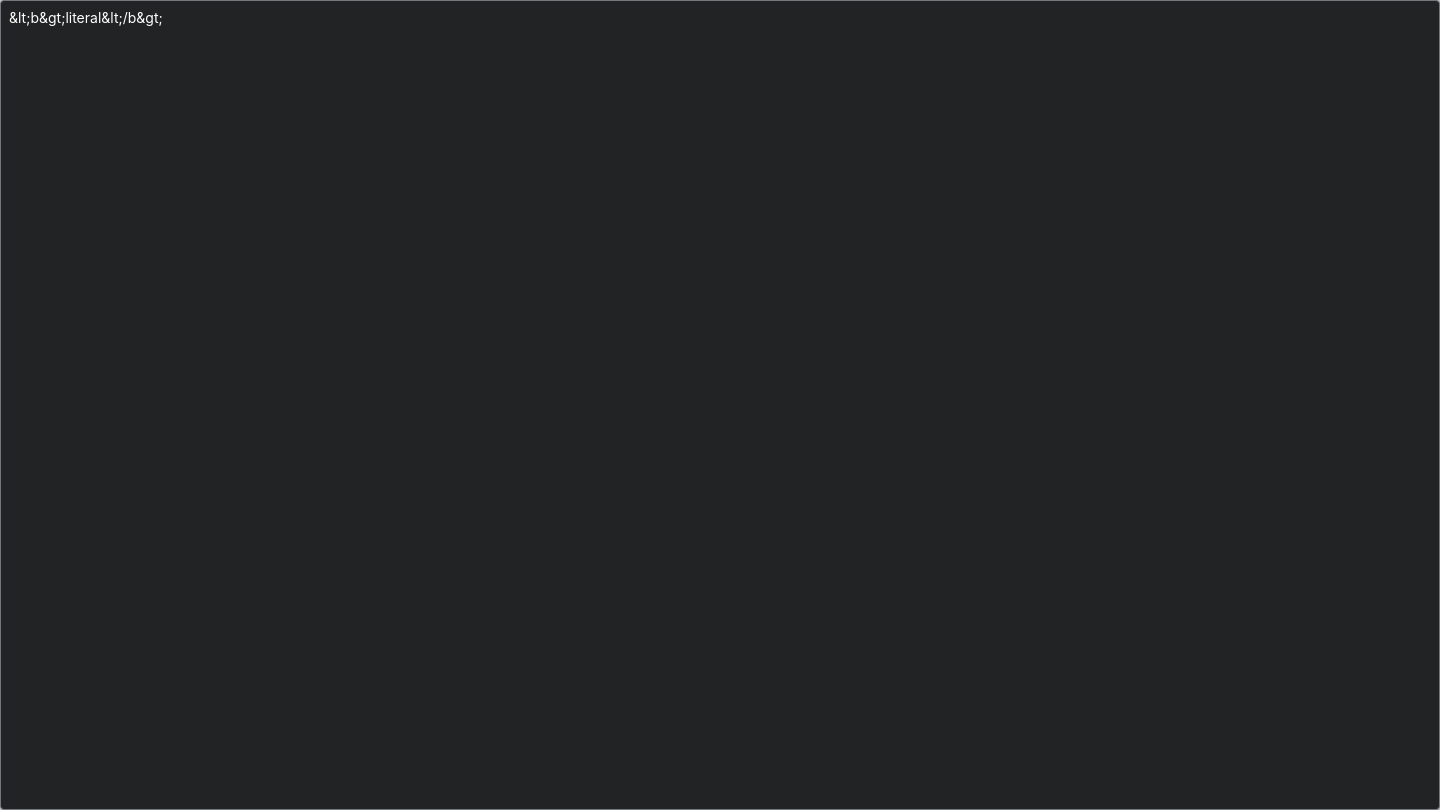
TextNode legacy HTML content › preserves legacy text on blur without typing: <p>&lt;b&gt;literal&lt;/b&gt;</p>
Double-click the text "&lt;b&gt;literal&lt;/b&gt;" at (86, 18), box [9,9,163,26]
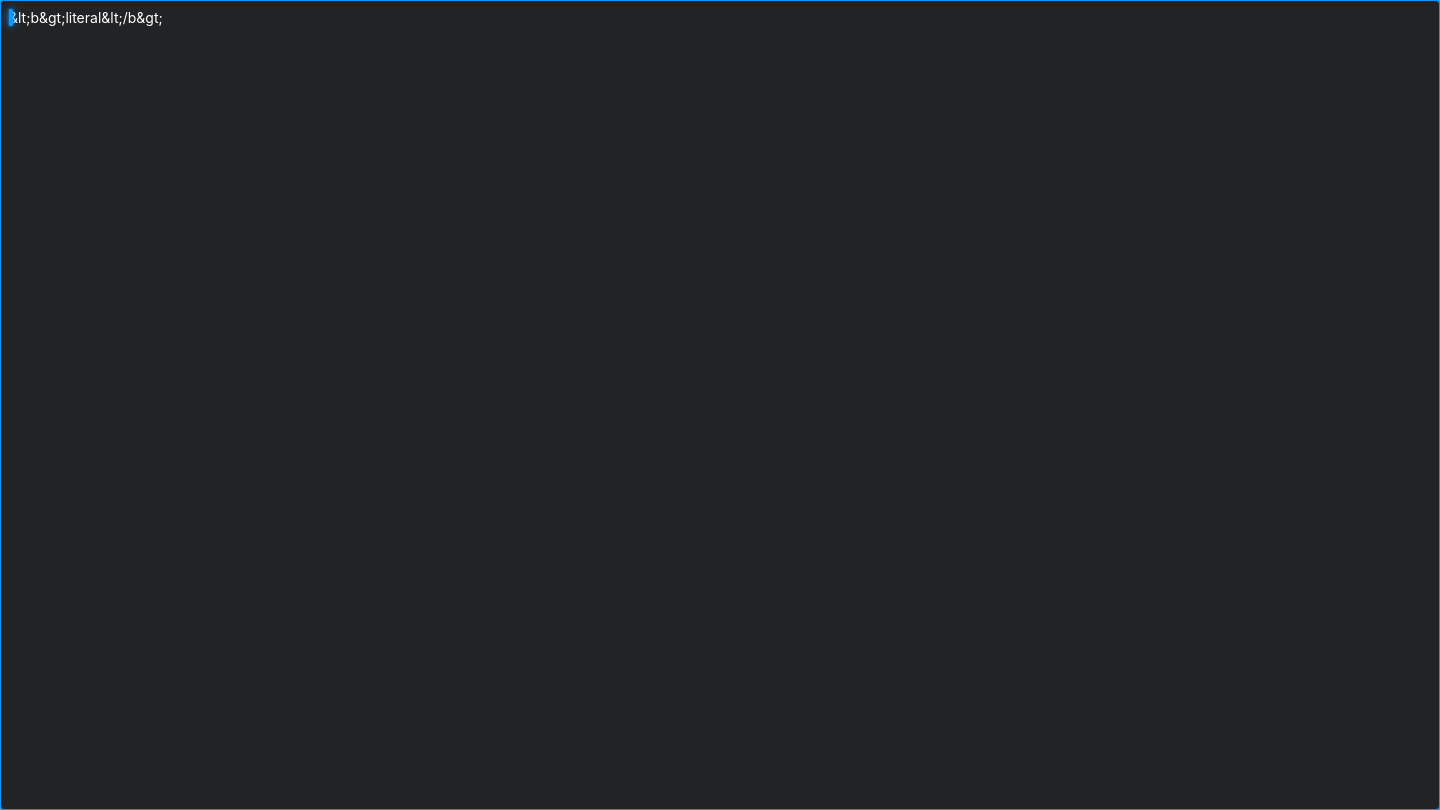
Expected: the text box named "文本节点内容" holds "&lt;b&gt;literal&lt;/b&gt;"
Leave the text box named "文本节点内容"
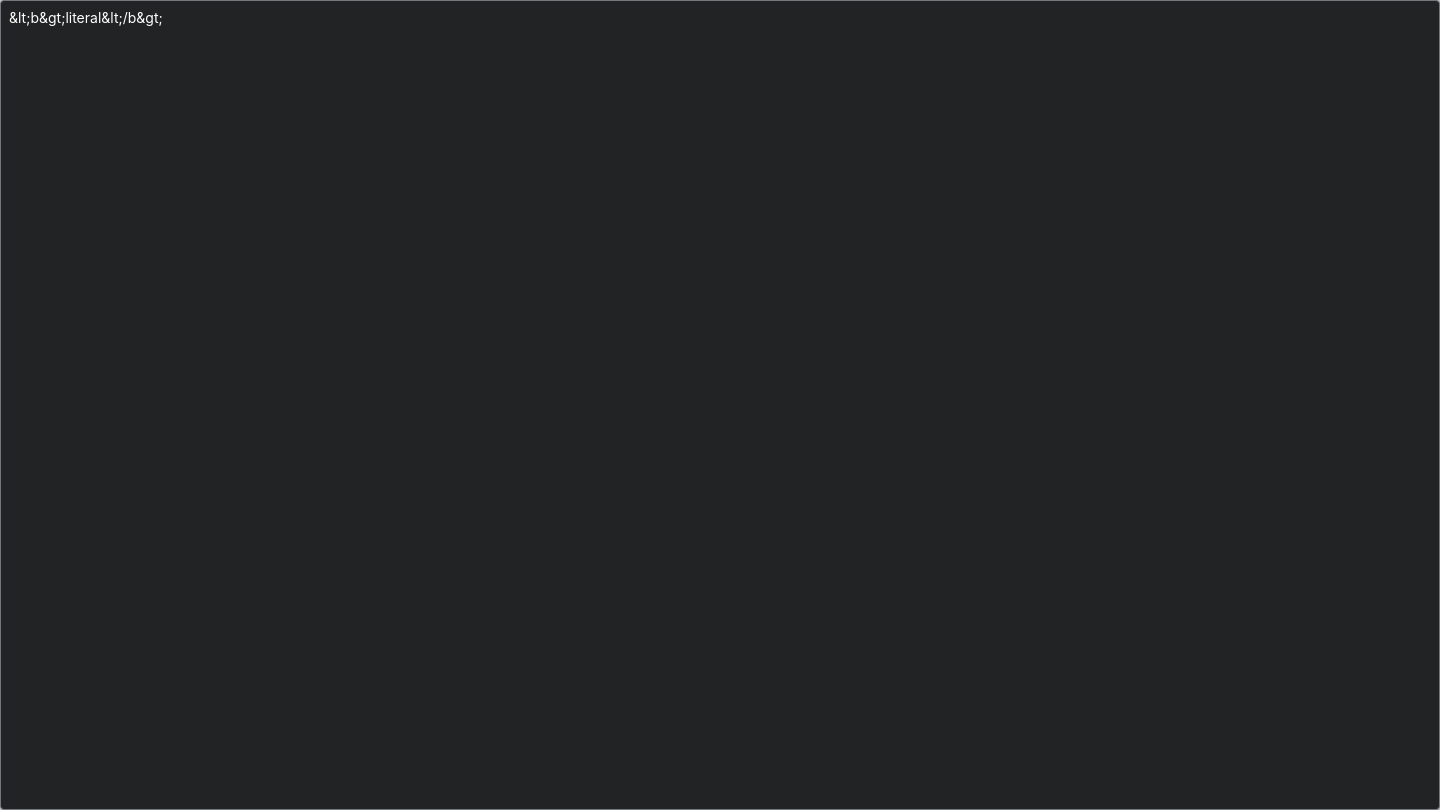
Expected: the text "&lt;b&gt;literal&lt;/b&gt;" is shown, [9,9,163,26]
